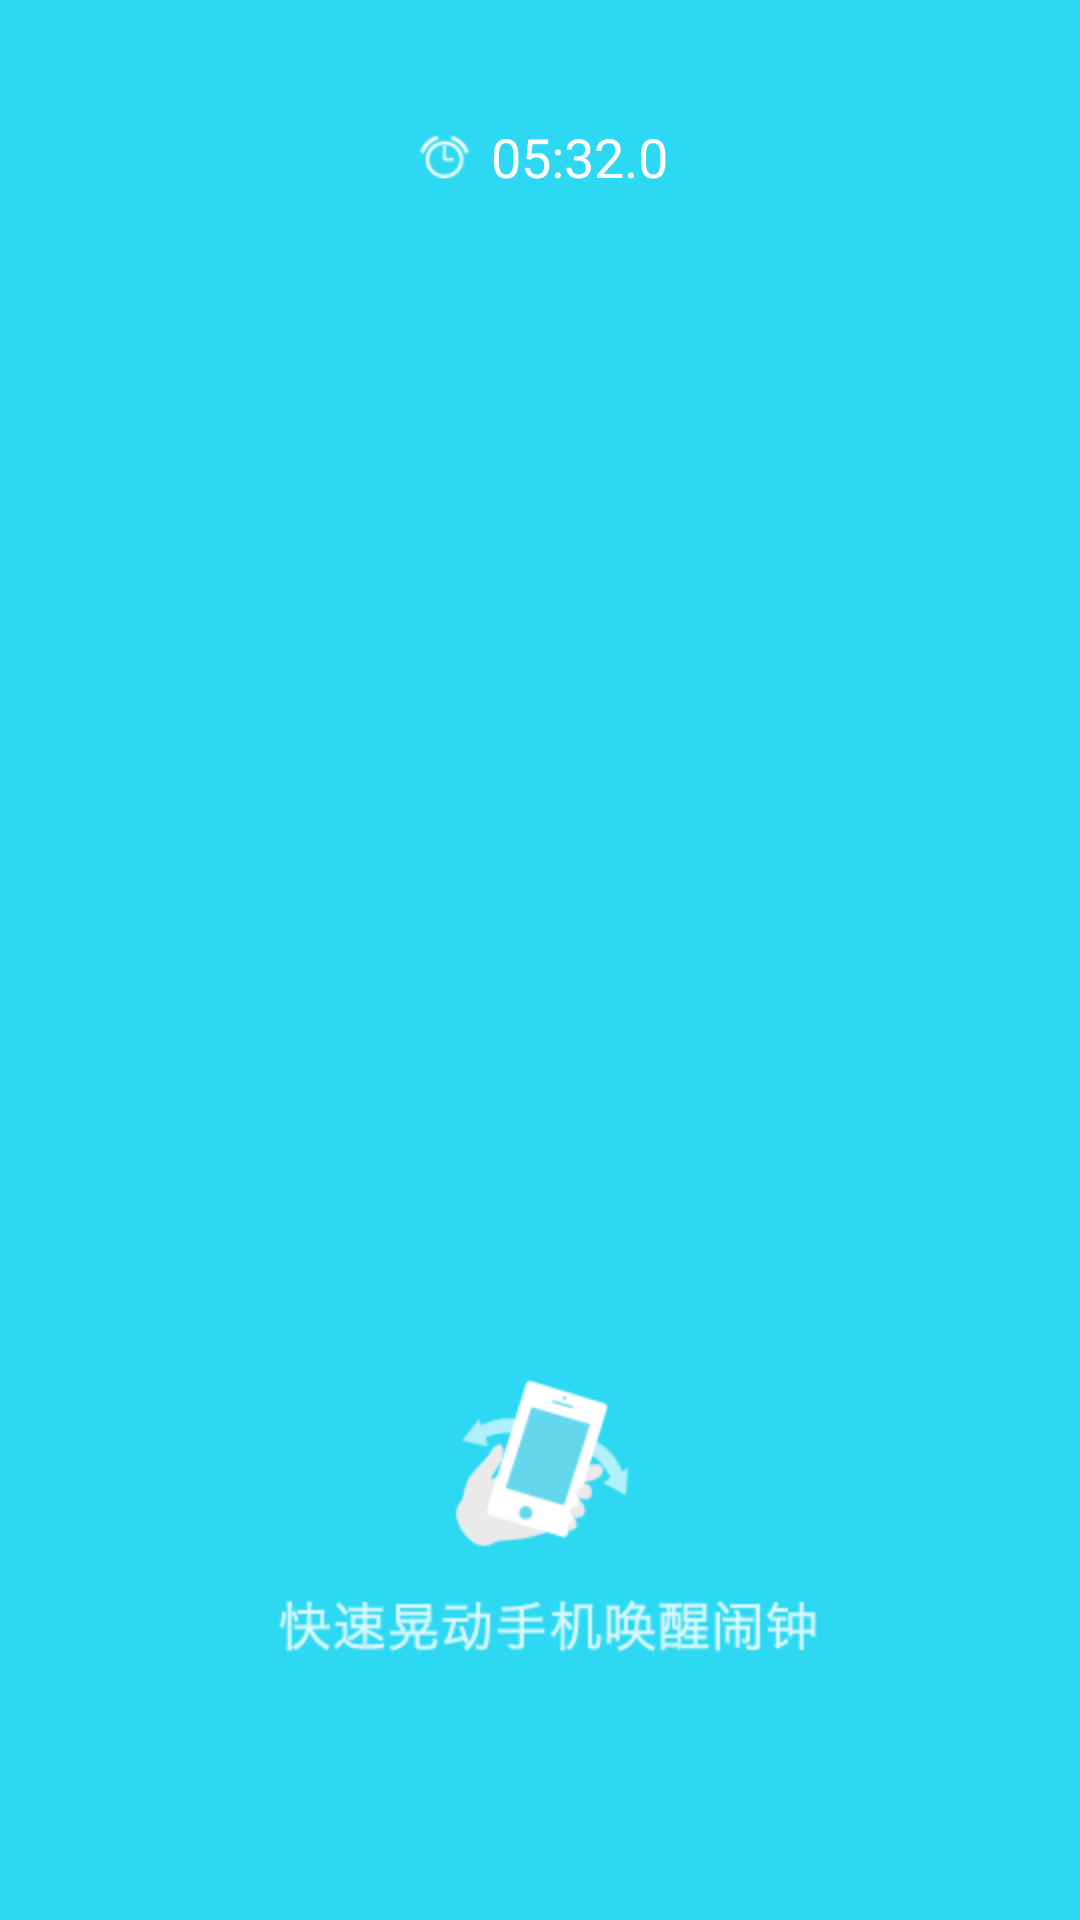

Where icons sit on this 1080×1920 app screen, as (x1, y1, x2, y2):
clock: (419, 135, 469, 179)
